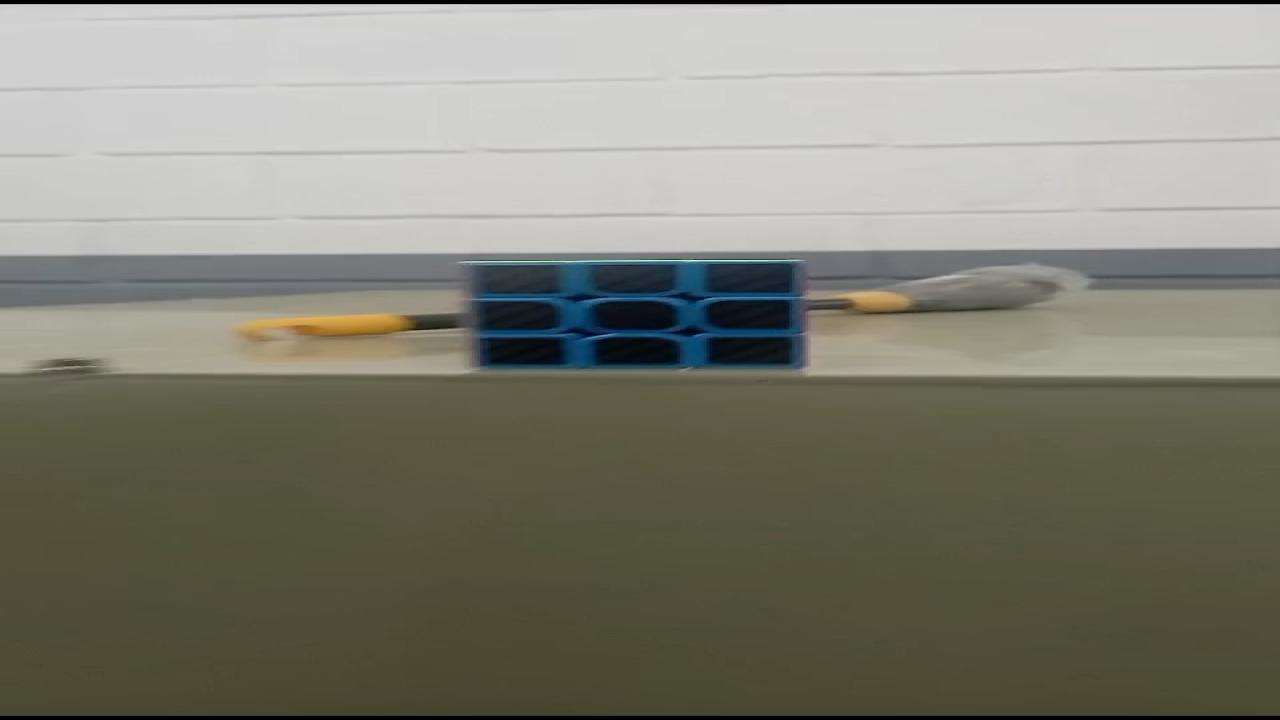Cube: (453, 257, 811, 371)
